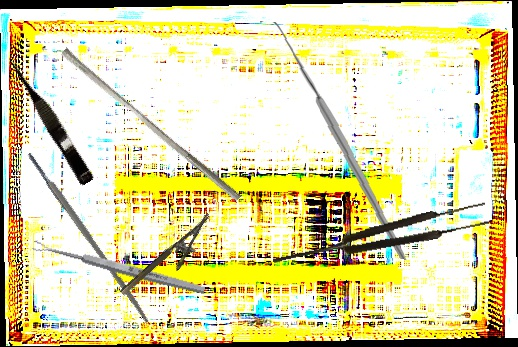Hook Surgical: (251, 21, 417, 260)
Micro Scissor: (4, 52, 98, 187)
Needle Holder: (118, 213, 224, 308)
Pusher: (56, 47, 247, 202)
Scalpel Handle: (26, 150, 152, 325)
Surgical Spoon: (31, 238, 207, 297)
Tissue Forceps: (269, 200, 491, 273)
